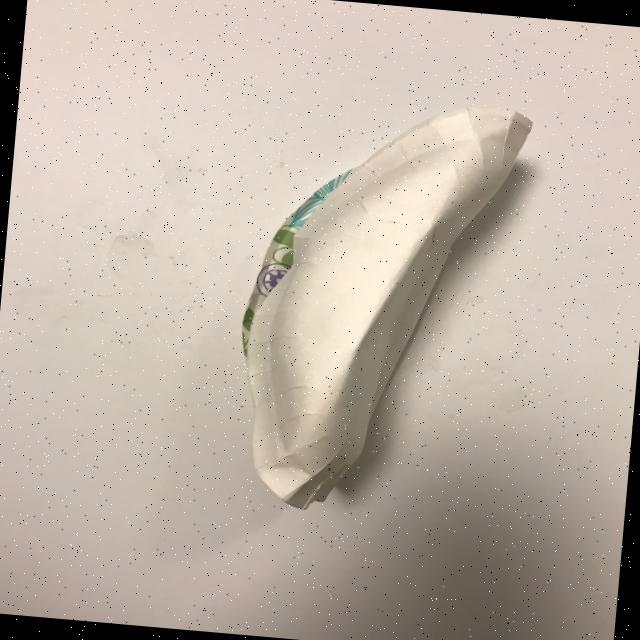paper: (225, 86, 534, 526)
